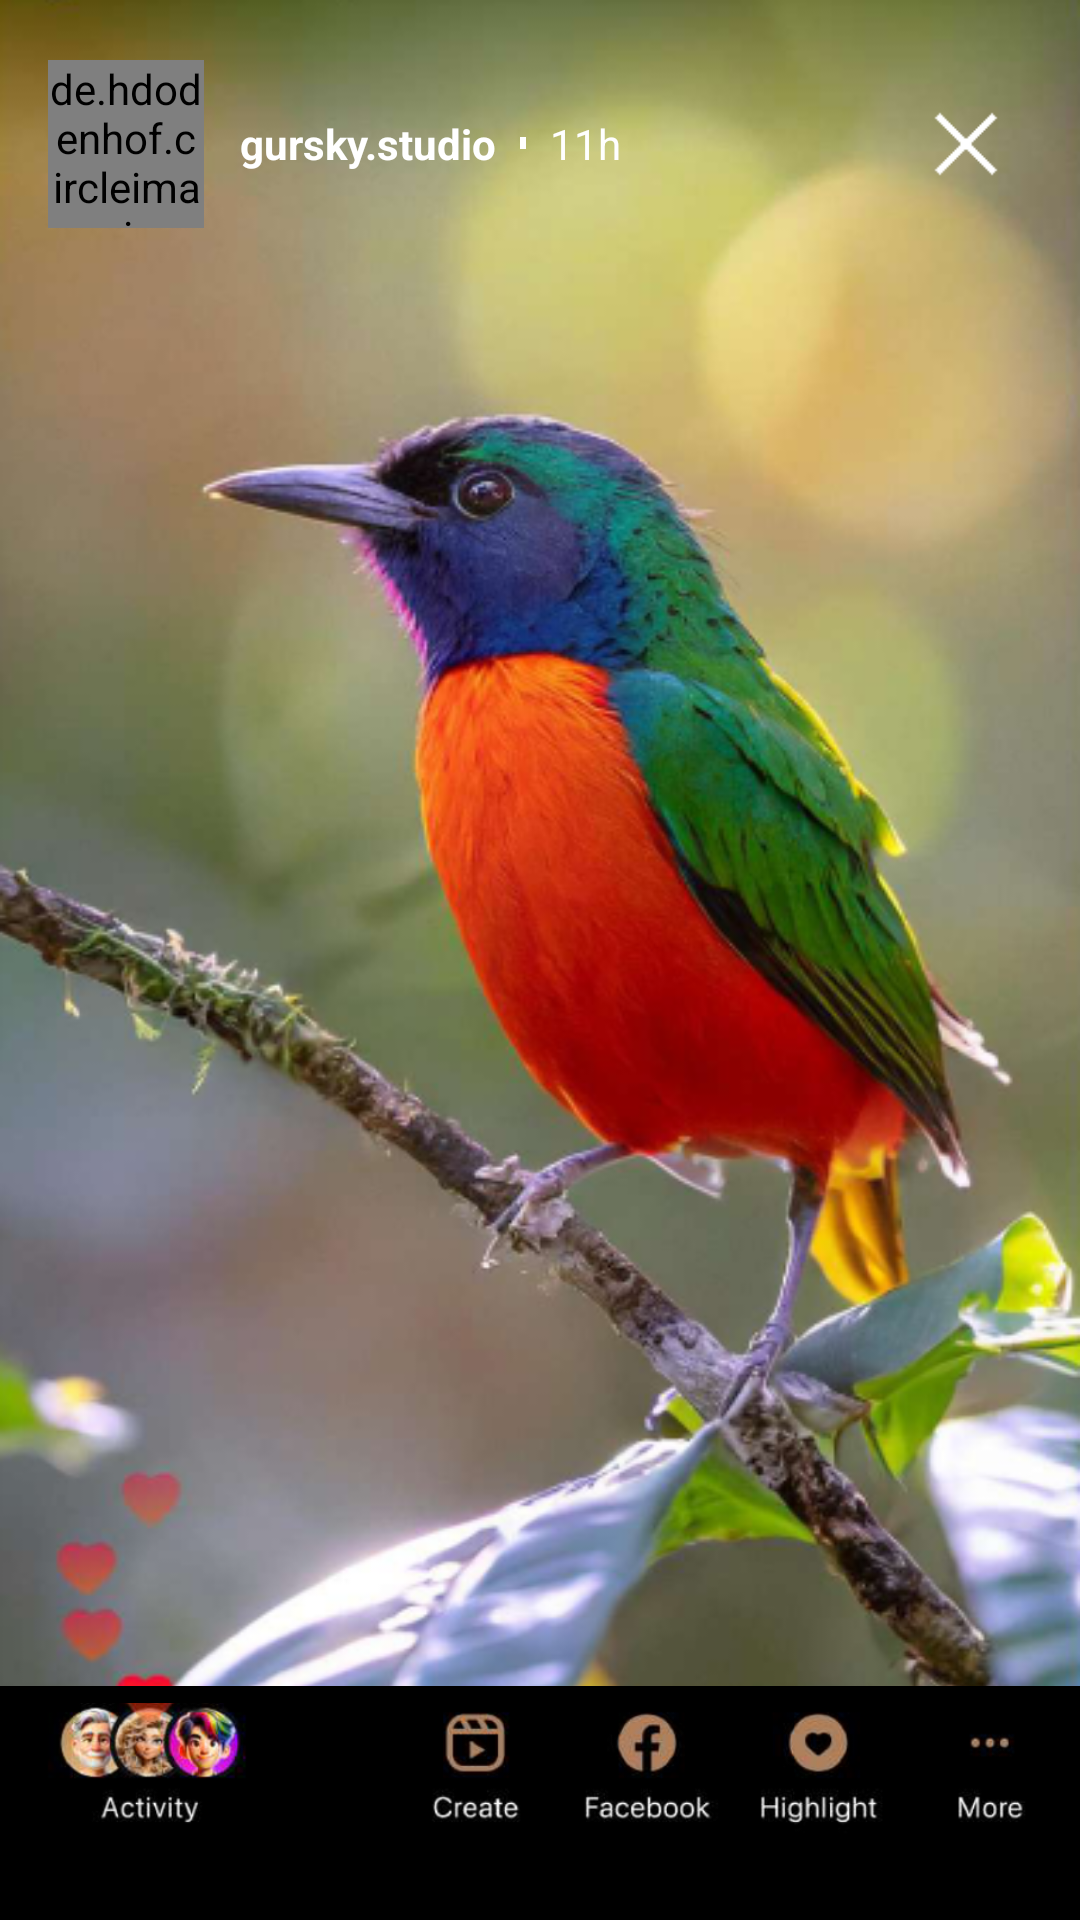

Icons on this 1080x1920 Android screen, each with its box as box=[x1, y1, x2, y2]:
cross: box=[900, 112, 997, 210]
